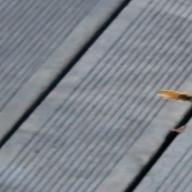Bee: (153, 88, 192, 108)
